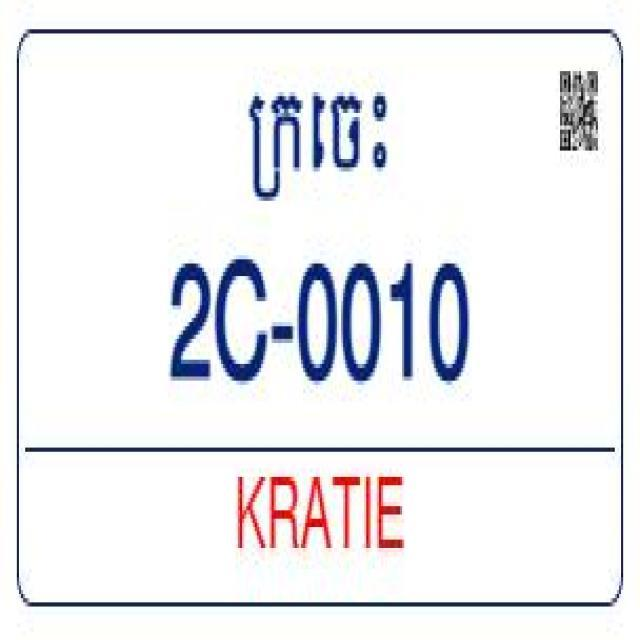Kratie: (236, 67, 398, 219)
